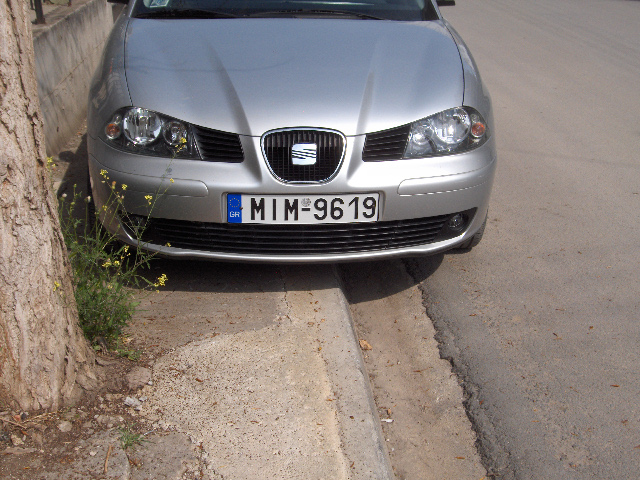licenseplate: (224, 190, 380, 223)
